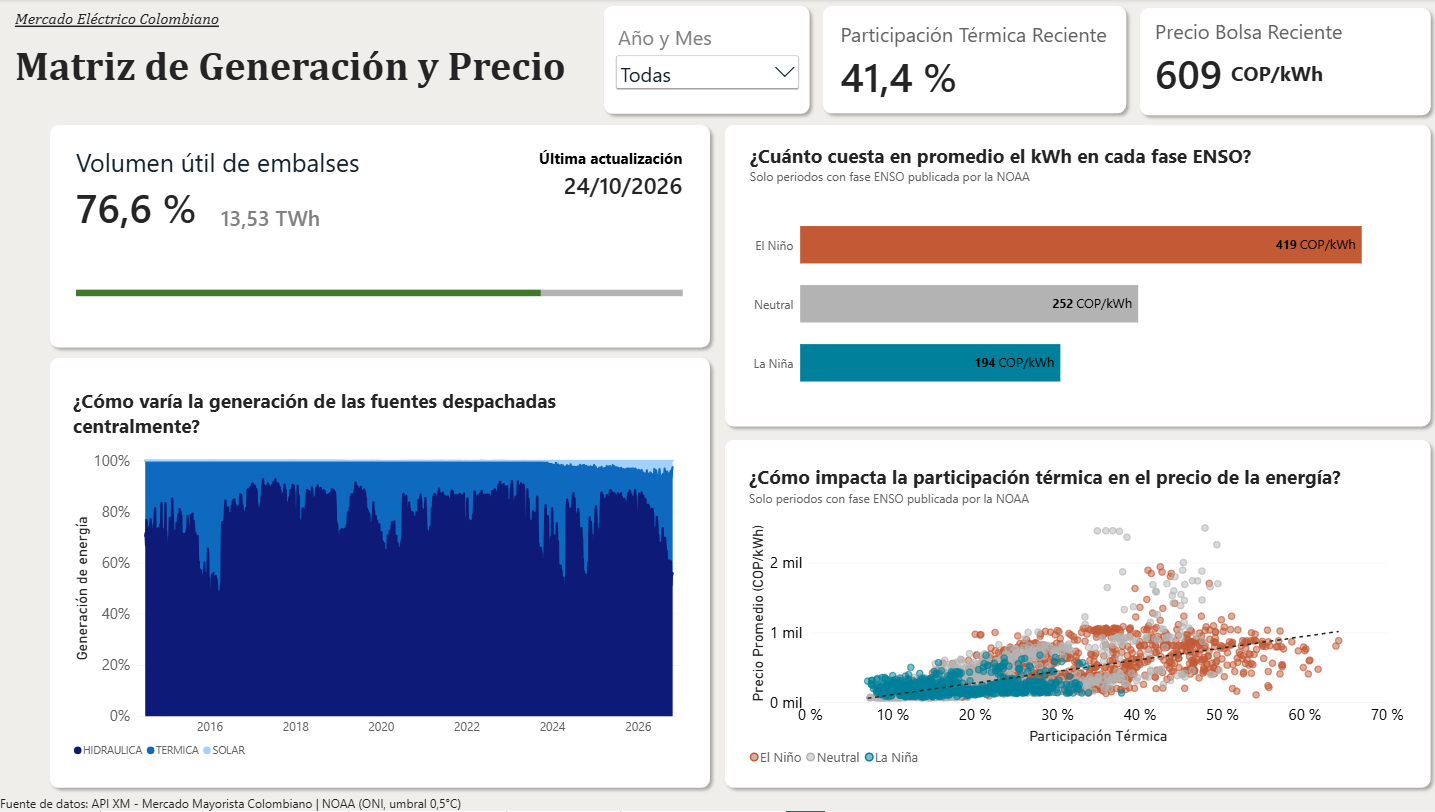

This screenshot's page, from the dashboard's own definition file:
{"tool":"powerbi","page":{"name":"Matriz de Generación","canvas":[1920,1080],"ordinal":0},"visuals":[{"type":"shape","box":[964,577.9,956.9,480.8],"z":0},{"type":"shape","box":[66.1,468.2,896.2,590],"z":1000},{"type":"hundredPercentStackedAreaChart","title":"¿Cómo varía la generación de las fuentes despachadas centralmente?","fields":{"Category":["star dim_fecha.fecha"],"Series":["star dim_recurso.tipo_fuente"],"Y":["_Medidas.Generacion Despacho"]},"box":[90.5,502.6,847.5,527.2],"z":2000},{"type":"scatterChart","title":"¿Cómo impacta la participación térmica en el precio de la energía?","fields":{"Category":["star dim_fecha.fecha"],"Series":["star dim_enso.fase_enso"],"X":["_Medidas.Participación Térmica"],"Y":["_Medidas.Precio Promedio"]},"box":[990,604,902.4,436],"z":3000},{"type":"shape","title":"¿Cuánto cuesta en promedio el kWh en cada fase ENSO?","box":[964,158.7,956.9,419.2],"z":4000},{"type":"barChart","title":"¿Cuánto cuesta en promedio el kWh en cada fase ENSO?","fields":{"Category":["star dim_enso.fase_enso"],"Series":["star dim_enso.fase_enso"],"Y":["_Medidas.Precio Promedio (COP/kWh)"]},"box":[990,175.3,902.4,386.1],"z":5000},{"type":"shape","box":[66.1,158,896.2,314.3],"z":6000},{"type":"cardVisual","fields":{"Data":["_Medidas.Volumen Relativo"]},"box":[94.5,176.3,839.4,152.1],"z":7000},{"type":"barChart","fields":{"Y":["_Medidas.Volumen Relativo","_Medidas.Volumen Completo"]},"box":[94.5,316.2,839.4,144],"z":8000},{"type":"cardVisual","fields":{"Data":["_Medidas.Volumen útil Unidades"]},"box":[287.3,242.1,340.7,97.7],"z":9000},{"type":"textbox","box":[29.3,13.3,740.8,137],"z":10000},{"type":"shape","box":[1094.2,0,421.6,161.1],"z":11000},{"type":"cardVisual","fields":{"Data":["_Medidas.Participación Térmica Reciente"]},"box":[1110.8,26.1,405.5,113.5],"z":12000},{"type":"shape","box":[1515.8,2.4,405,161.1],"z":13000},{"type":"cardVisual","fields":{"Data":["_Medidas.Precio Bolsa Reciente"]},"box":[1530,23.7,379.2,111.5],"z":14000},{"type":"textbox","box":[1646.6,79.8,145.4,70.4],"z":15000},{"type":"cardVisual","fields":{"Data":["_Medidas.Ultima fecha"]},"box":[644,190.4,289.9,85.2],"z":16000},{"type":"shape","box":[803.1,0,291.8,161.8],"z":17000},{"type":"slicer","fields":{"Values":["star dim_fecha.fecha.Variation.Date Hierarchy.Year","star dim_fecha.fecha.Variation.Date Hierarchy.Month"]},"box":[823.3,31.8,254.2,104],"z":18000},{"type":"textbox","box":[9.5,1058.7,793.4,21.3],"z":19000}]}

Visuals, with their boxes in screenshot pixels (x1, y1, x2, y2), scaled from the page's 1920x1080 canvas onto the 1435x812 screenshot:
shape: 720,434,1434,796
shape: 49,352,719,796
"¿Cómo varía la generación de las fuentes despachadas centralmente?" hundredPercentStackedAreaChart: 68,378,701,774
"¿Cómo impacta la participación térmica en el precio de la energía?" scatterChart: 740,454,1414,782
"¿Cuánto cuesta en promedio el kWh en cada fase ENSO?" shape: 720,119,1434,434
"¿Cuánto cuesta en promedio el kWh en cada fase ENSO?" barChart: 740,132,1414,422
shape: 49,119,719,355
cardVisual - _Medidas.Volumen Relativo: 71,133,698,247
barChart - _Medidas.Volumen Relativo x _Medidas.Volumen Completo: 71,238,698,346
cardVisual - _Medidas.Volumen útil Unidades: 215,182,469,255
textbox: 22,10,576,113
shape: 818,0,1133,121
cardVisual - _Medidas.Participación Térmica Reciente: 830,20,1133,105
shape: 1133,2,1434,123
cardVisual - _Medidas.Precio Bolsa Reciente: 1144,18,1427,102
textbox: 1231,60,1339,113
cardVisual - _Medidas.Ultima fecha: 481,143,698,207
shape: 600,0,818,122
slicer - star dim_fecha.fecha.Variation.Date Hierarchy.Year x star dim_fecha.fecha.Variation.Date Hierarchy.Month: 615,24,805,102
textbox: 7,796,600,811
